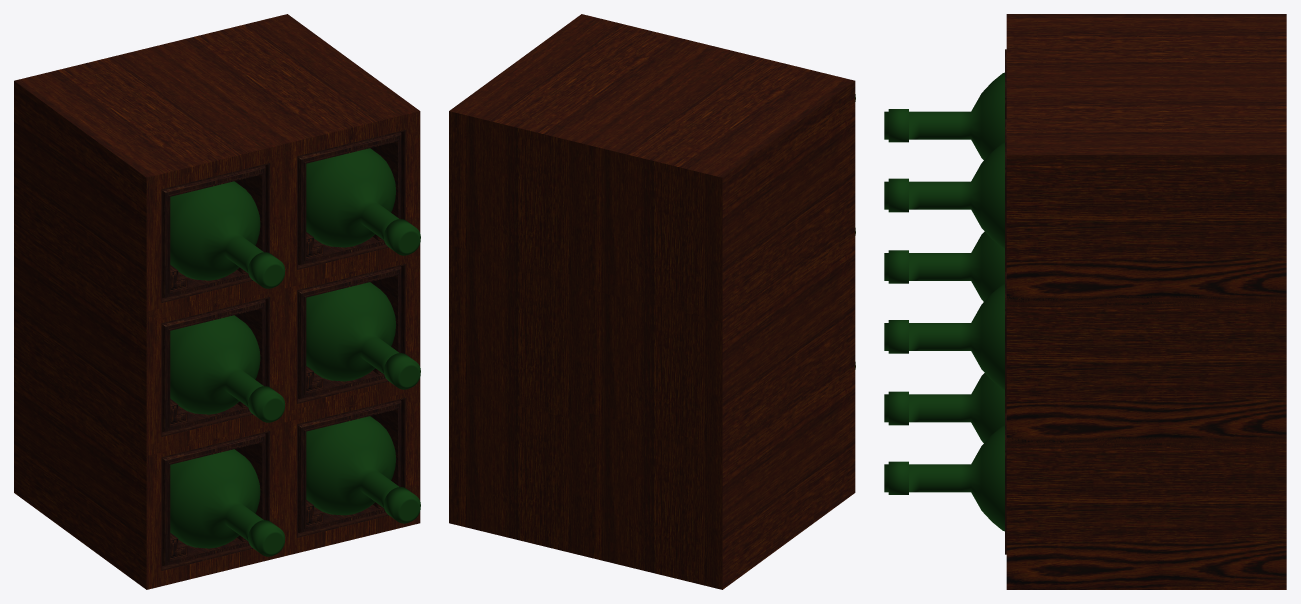
File: wineryModel.glb
3 renders of one model, left to right at view 1: azimuth 30°, elevation 25°; view 2: azimuth 150°, elevation 25°; view 3: azimuth 270°, elevation 25°, orthographic. The views are drawn at different scales.
Parts seen in each view (by area): view 1: Plane; view 2: Plane; view 3: Plane.
Part boxes in pixels (x1,y1,x2,y2): Plane: (14, 14, 420, 589); Plane: (449, 14, 855, 589); Plane: (884, 14, 1286, 589).
Bounding box in the file's own units: 0.2977 × 0.4286 × 0.3592.
3 materials, 2 textured.
